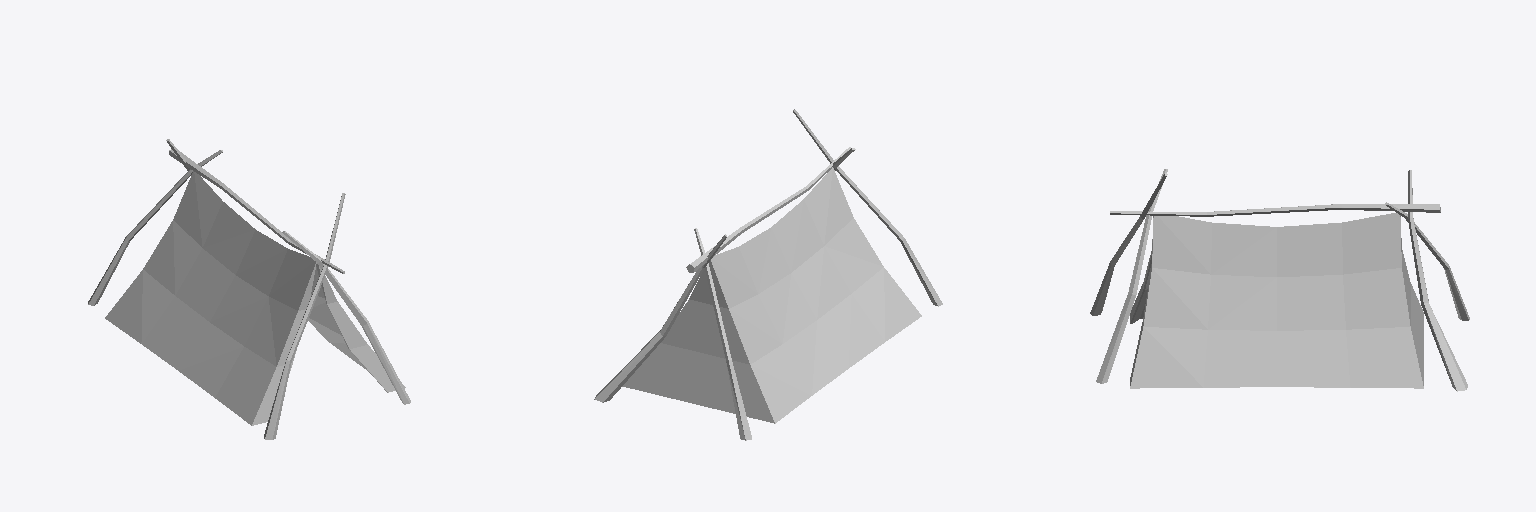
File: Tent02.obj
3 renders of one model, left to right at view 1: azimuth 30°, elevation 25°; view 2: azimuth 150°, elevation 25°; view 3: azimuth 270°, elevation 25°, orthographic.
Parts seen in each view (by area): view 1: Tent02; view 2: Tent02; view 3: Tent02.
Part boxes in pixels (x1,y1,x2,y2): Tent02: (88,139,410,439); Tent02: (594,109,942,440); Tent02: (1090,169,1469,391).
Size of the model in its own units: 2.18 by 2.45 by 4.31.